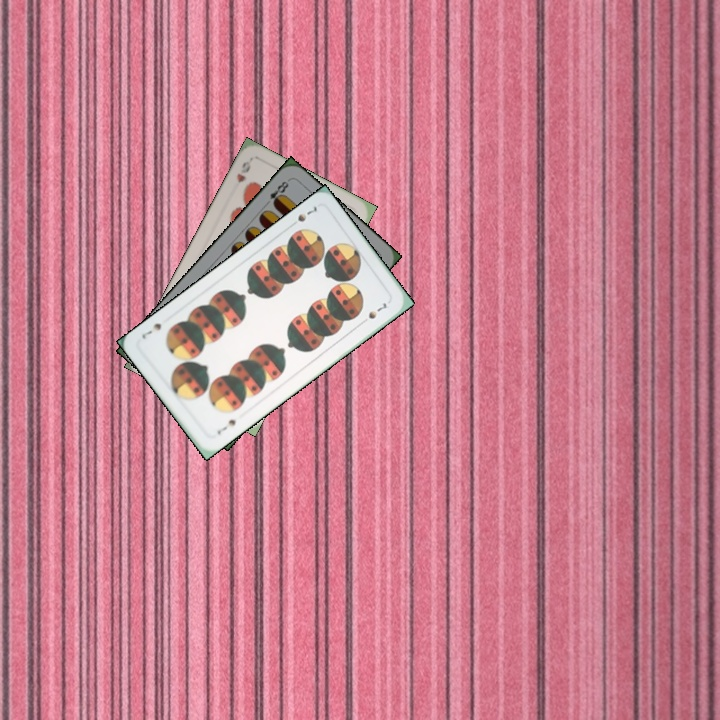E8: (260, 176, 292, 209)
H9: (232, 157, 253, 186)
S7: (285, 202, 320, 230), (213, 415, 238, 437)
